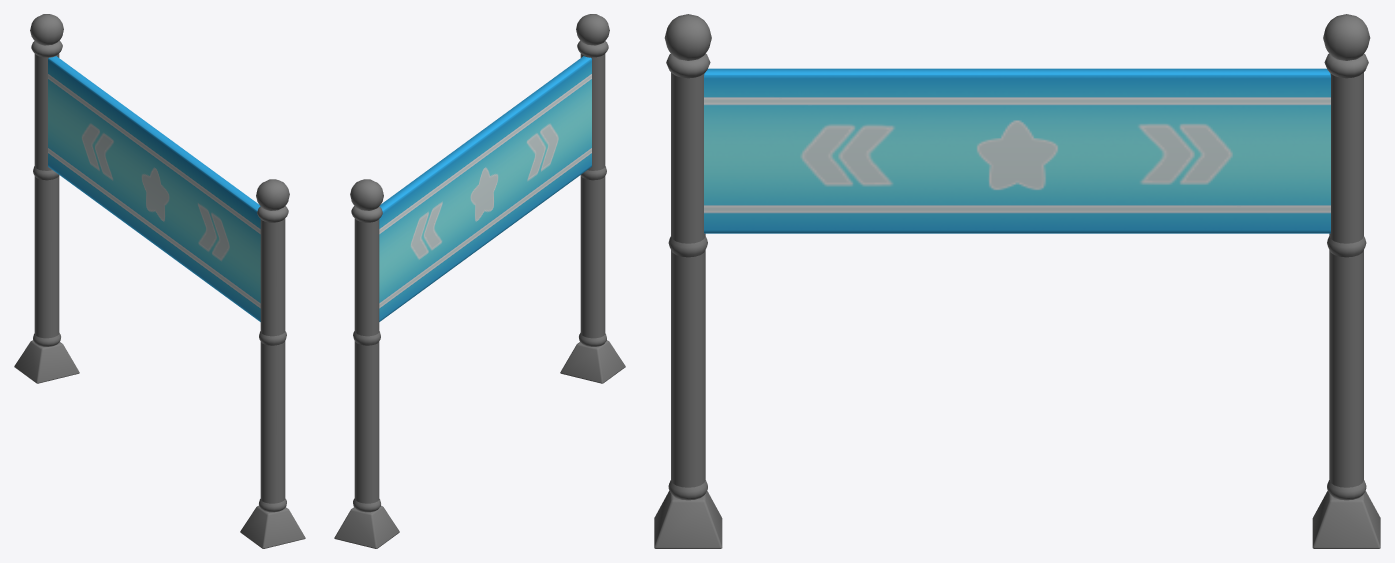
The model's file is SoccerStadium_Entry.fbx.
The picture shows the model from 3 angles, left to right: view 1: azimuth 30°, elevation 25°; view 2: azimuth 150°, elevation 25°; view 3: azimuth 270°, elevation 25°; orthographic projection. The views are drawn at different scales.
Parts seen in each view (by area): view 1: Stadium_Entry; view 2: Stadium_Entry; view 3: Stadium_Entry.
Boxes of the visible parts, x1,y1,x2,y2 form: Stadium_Entry: (14, 14, 305, 548); Stadium_Entry: (334, 14, 625, 548); Stadium_Entry: (654, 14, 1380, 548).
Size of the model in its own units: 178 by 1789 by 1407.
